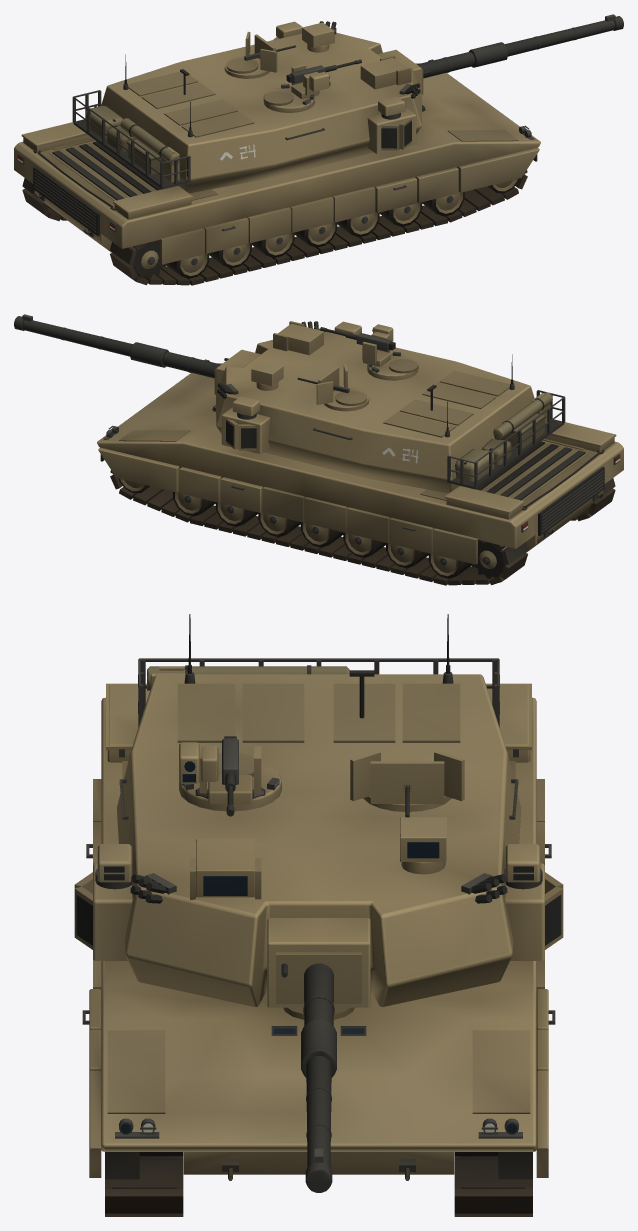
3 renders of one model, top to bottom at view 1: azimuth 30°, elevation 25°; view 2: azimuth 150°, elevation 25°; view 3: azimuth 270°, elevation 25°, orthographic. The views are drawn at different scales.
Parts seen in each view (by area): view 1: hull, turret, gun, sprocket_R, wheel_R3, wheel_R6, wheel_R4, wheel_R5, wheel_R2, wheel_R1, wheel_R0; view 2: hull, turret, gun, sprocket_L, wheel_L3, wheel_L6, wheel_L4, wheel_L5, wheel_L2, wheel_L1, wheel_L0; view 3: turret, hull, gun.
Boxes of the visible parts, left/top/right/bottom form: hull: left=14, top=59, right=540, bottom=285; turret: left=72, top=21, right=421, bottom=193; gun: left=377, top=14, right=623, bottom=94; sprocket_R: left=131, top=241, right=166, bottom=278; wheel_R3: left=294, top=222, right=337, bottom=247; wheel_R6: left=166, top=253, right=209, bottom=278; wheel_R4: left=252, top=232, right=294, bottom=257; wheel_R5: left=209, top=243, right=251, bottom=268; wheel_R2: left=337, top=212, right=379, bottom=237; wheel_R1: left=379, top=202, right=422, bottom=226; wheel_R0: left=422, top=191, right=464, bottom=216; hull: left=97, top=359, right=623, bottom=585; turret: left=216, top=321, right=565, bottom=493; gun: left=14, top=314, right=260, bottom=394; sprocket_L: left=471, top=541, right=506, bottom=578; wheel_L3: left=300, top=522, right=343, bottom=547; wheel_L6: left=428, top=553, right=471, bottom=578; wheel_L4: left=343, top=532, right=385, bottom=557; wheel_L5: left=386, top=543, right=428, bottom=568; wheel_L2: left=258, top=512, right=300, bottom=537; wheel_L1: left=215, top=502, right=258, bottom=526; wheel_L0: left=173, top=491, right=215, bottom=516; turret: left=74, top=614, right=563, bottom=1006; hull: left=82, top=683, right=555, bottom=1216; gun: left=267, top=918, right=370, bottom=1192.
Size of the model in its own units: 10.57 by 2.94 by 3.98.
